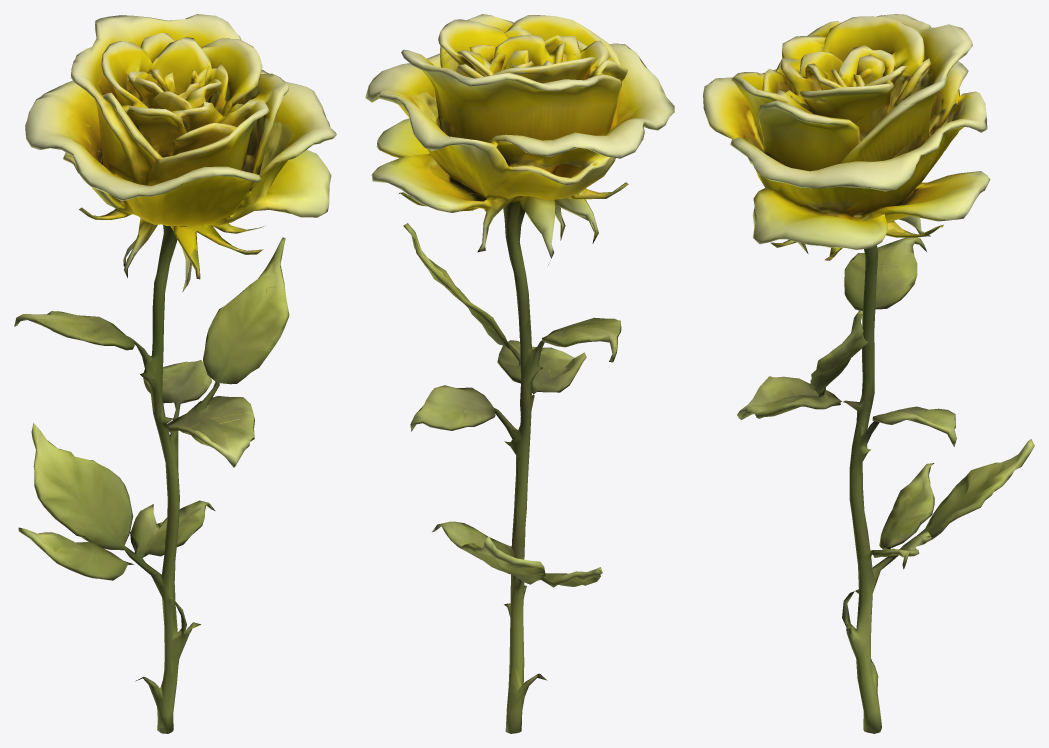
File: zolta_roza.glb
3 renders of one model, left to right at view 1: azimuth 30°, elevation 25°; view 2: azimuth 150°, elevation 25°; view 3: azimuth 270°, elevation 25°, orthographic.
Parts seen in each view (by area): view 1: Mesh_0.001; view 2: Mesh_0.001; view 3: Mesh_0.001.
Boxes of the visible parts, x1=… form: Mesh_0.001: x1=14, y1=14, x2=336, y2=733; Mesh_0.001: x1=365, y1=14, x2=674, y2=733; Mesh_0.001: x1=703, y1=14, x2=1034, y2=733.
Size of the model in its own units: 0.2058 by 0.5 by 0.2174.
1 material, 1 textured.
